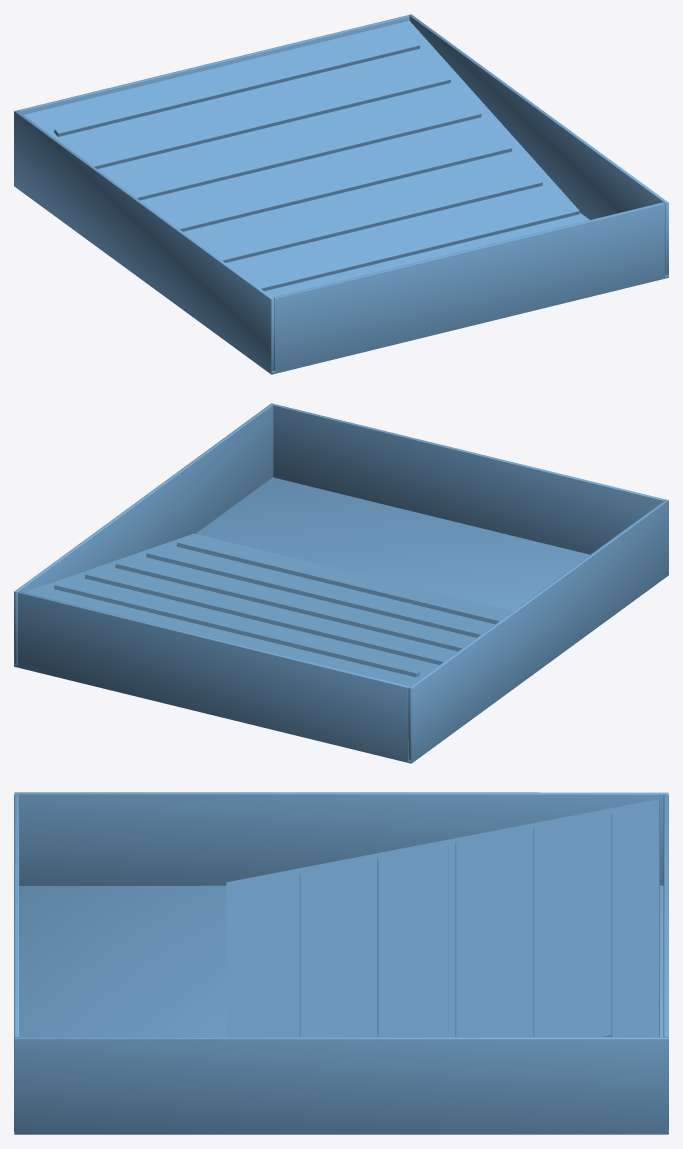
Rendered from PIN-FER-003_lod1.glb.
3 renders of one model, top to bottom at view 1: azimuth 30°, elevation 25°; view 2: azimuth 150°, elevation 25°; view 3: azimuth 270°, elevation 25°, orthographic. The views are drawn at different scales.
Visible parts, largest first — view 1: PIN-FER-003_rampa, PIN-FER-003_ly-1, PIN-FER-003_lx-1, PIN-FER-003_lx1, PIN-FER-003_frisos0, PIN-FER-003_frisos1, PIN-FER-003_frisos2, PIN-FER-003_frisos3, PIN-FER-003_frisos4, PIN-FER-003_fundo, PIN-FER-003_ly1; view 2: PIN-FER-003_ly1, PIN-FER-003_ly-1, PIN-FER-003_rampa, PIN-FER-003_fundo, PIN-FER-003_lx-1, PIN-FER-003_lx1, PIN-FER-003_frisos0, PIN-FER-003_frisos1, PIN-FER-003_frisos2, PIN-FER-003_frisos3, PIN-FER-003_frisos4; view 3: PIN-FER-003_rampa, PIN-FER-003_lx1, PIN-FER-003_lx-1, PIN-FER-003_fundo, PIN-FER-003_frisos0, PIN-FER-003_frisos1, PIN-FER-003_frisos2, PIN-FER-003_frisos3, PIN-FER-003_frisos4, PIN-FER-003_ly1, PIN-FER-003_ly-1.
Boxes of the visible parts, bbox=[...] form: PIN-FER-003_rampa: bbox=[24, 21, 579, 291]; PIN-FER-003_ly-1: bbox=[273, 202, 665, 373]; PIN-FER-003_lx-1: bbox=[14, 110, 274, 374]; PIN-FER-003_lx1: bbox=[408, 14, 668, 278]; PIN-FER-003_frisos0: bbox=[54, 41, 420, 136]; PIN-FER-003_frisos1: bbox=[88, 75, 450, 168]; PIN-FER-003_frisos2: bbox=[131, 109, 481, 200]; PIN-FER-003_frisos3: bbox=[174, 143, 512, 231]; PIN-FER-003_frisos4: bbox=[217, 178, 542, 262]; PIN-FER-003_fundo: bbox=[264, 212, 668, 373]; PIN-FER-003_ly1: bbox=[17, 15, 409, 114]; PIN-FER-003_ly1: bbox=[17, 591, 409, 762]; PIN-FER-003_ly-1: bbox=[273, 404, 665, 554]; PIN-FER-003_rampa: bbox=[25, 533, 512, 686]; PIN-FER-003_fundo: bbox=[14, 477, 589, 763]; PIN-FER-003_lx-1: bbox=[408, 499, 668, 763]; PIN-FER-003_lx1: bbox=[14, 403, 274, 667]; PIN-FER-003_frisos0: bbox=[54, 583, 420, 677]; PIN-FER-003_frisos1: bbox=[84, 573, 445, 664]; PIN-FER-003_frisos2: bbox=[115, 562, 464, 651]; PIN-FER-003_frisos3: bbox=[146, 552, 482, 637]; PIN-FER-003_frisos4: bbox=[176, 541, 501, 624]; PIN-FER-003_rampa: bbox=[226, 799, 659, 1037]; PIN-FER-003_lx1: bbox=[14, 1037, 668, 1134]; PIN-FER-003_lx-1: bbox=[14, 792, 668, 885]; PIN-FER-003_fundo: bbox=[14, 885, 668, 1134]; PIN-FER-003_frisos0: bbox=[600, 811, 612, 1036]; PIN-FER-003_frisos1: bbox=[523, 826, 534, 1036]; PIN-FER-003_frisos2: bbox=[445, 841, 456, 1036]; PIN-FER-003_frisos3: bbox=[367, 856, 378, 1036]; PIN-FER-003_frisos4: bbox=[289, 871, 300, 1036]; PIN-FER-003_ly1: bbox=[663, 794, 668, 1127]; PIN-FER-003_ly-1: bbox=[14, 794, 19, 1127].
Size of the model in its own units: 0.33 by 0.06 by 0.37.
